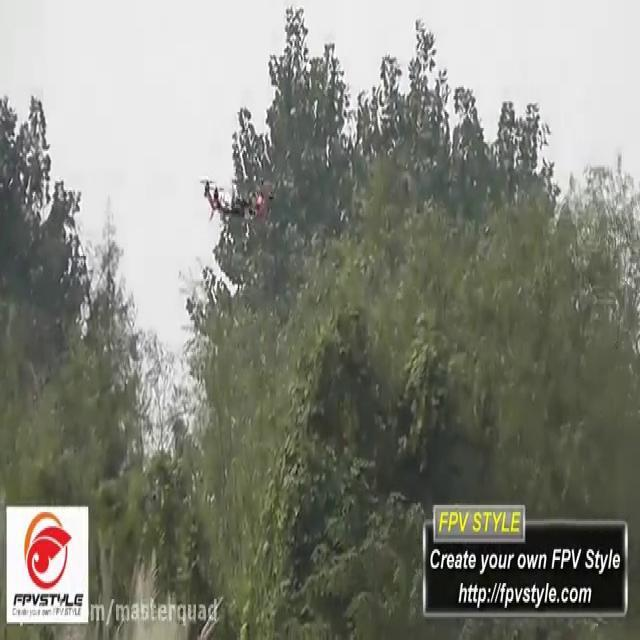drone: (196, 167, 281, 226)
